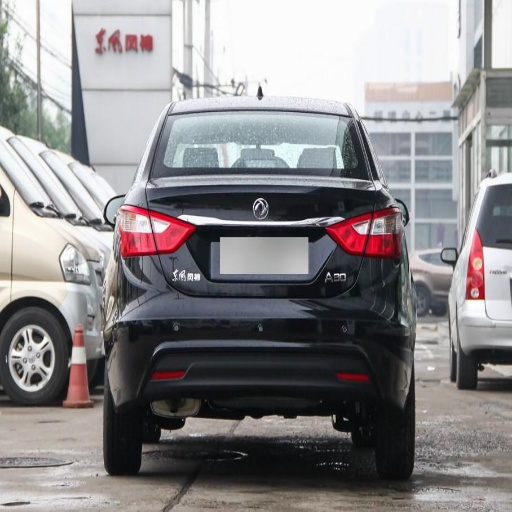back_bumper: (73, 252, 413, 422)
tailgate: (152, 175, 376, 297)
trunk: (149, 179, 221, 234)
